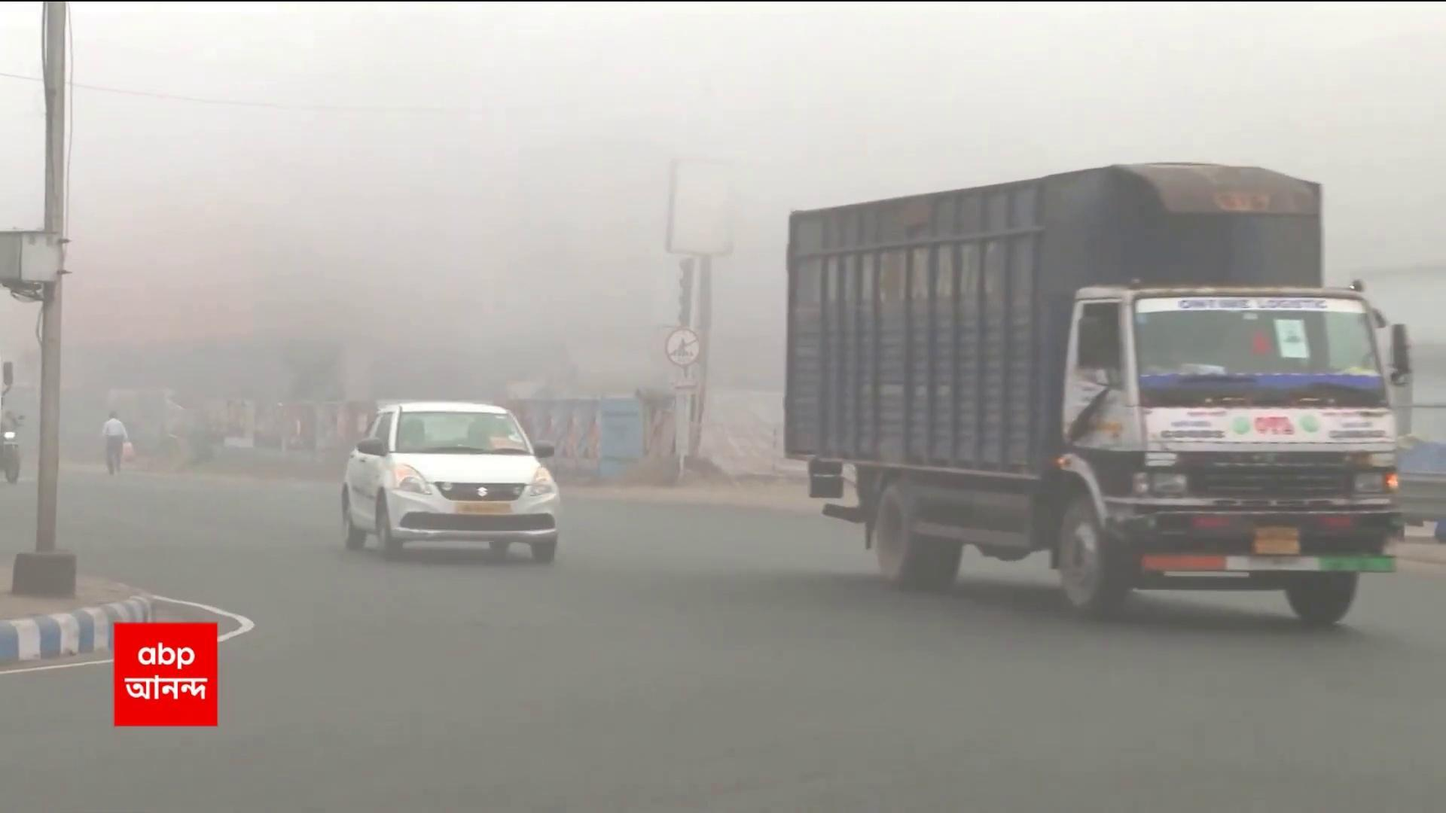Car: (335, 390, 569, 569)
Truck: (793, 164, 1405, 636)
